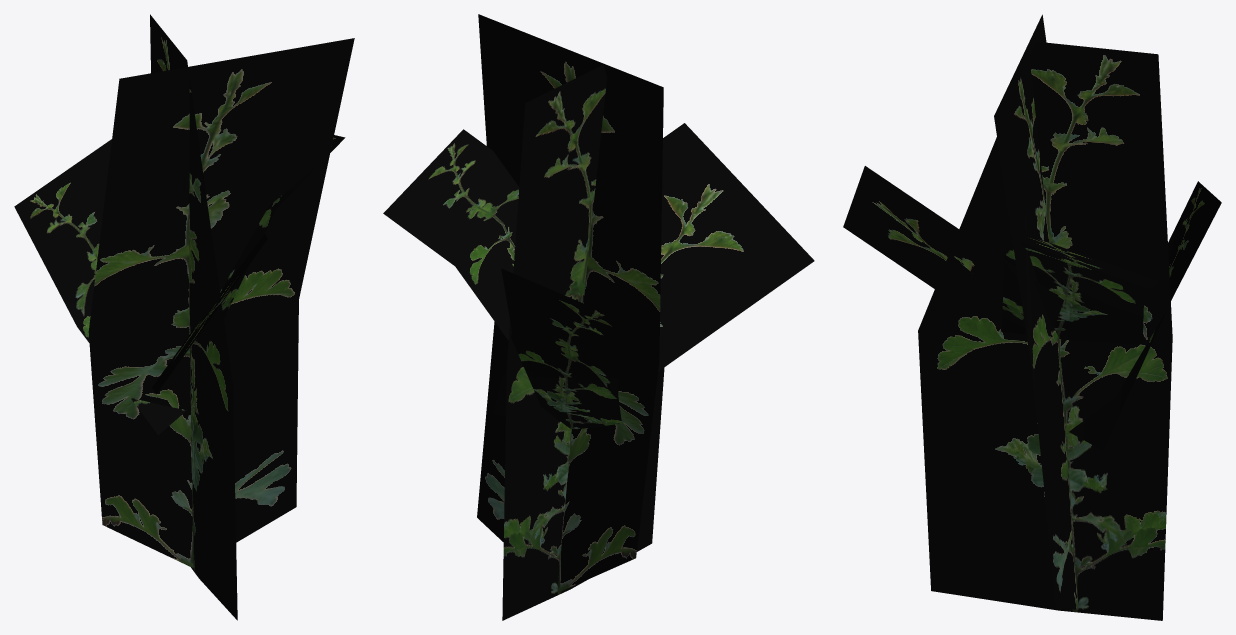
The model's file is Forest_Plant6.fbx.
3 views of the same model, side by side, from view 1: azimuth 30°, elevation 25°; view 2: azimuth 150°, elevation 25°; view 3: azimuth 270°, elevation 25° (orthographic). The views are drawn at different scales.
Parts seen in each view (by area): view 1: forest_plant6; view 2: forest_plant6; view 3: forest_plant6.
Boxes of the visible parts, box(x1,y1,x2,y2) form: forest_plant6: box(14, 14, 354, 620); forest_plant6: box(383, 14, 814, 620); forest_plant6: box(843, 14, 1221, 620).
Size of the model in its own units: 0.7922 by 1.4 by 0.8596.
